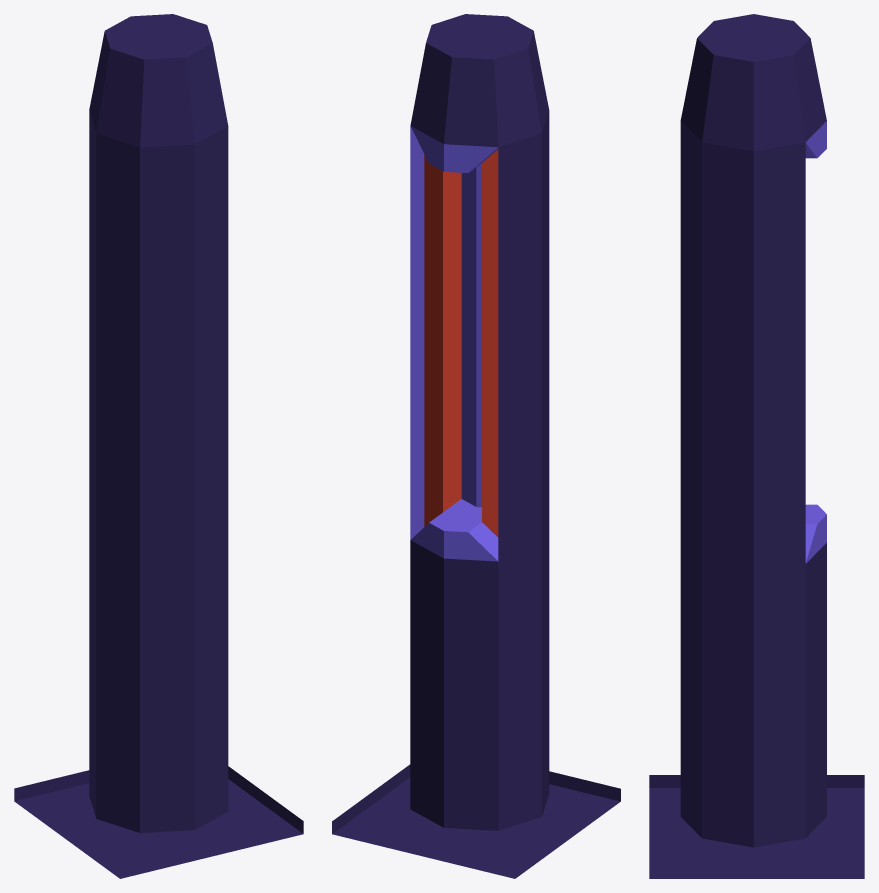
Rendered from GRIJALICA.fbx.
The picture shows the model from 3 angles, left to right: view 1: azimuth 30°, elevation 25°; view 2: azimuth 150°, elevation 25°; view 3: azimuth 270°, elevation 25°; orthographic projection.
Visible parts, largest first — view 1: Cylinder.001; view 2: Cylinder.001; view 3: Cylinder.001.
Part boxes in pixels (x1,y1,x2,y2): Cylinder.001: (14,14,303,878); Cylinder.001: (332,14,620,878); Cylinder.001: (649,14,864,878).
Bounding box in the file's own units: 111 × 450 × 111.
